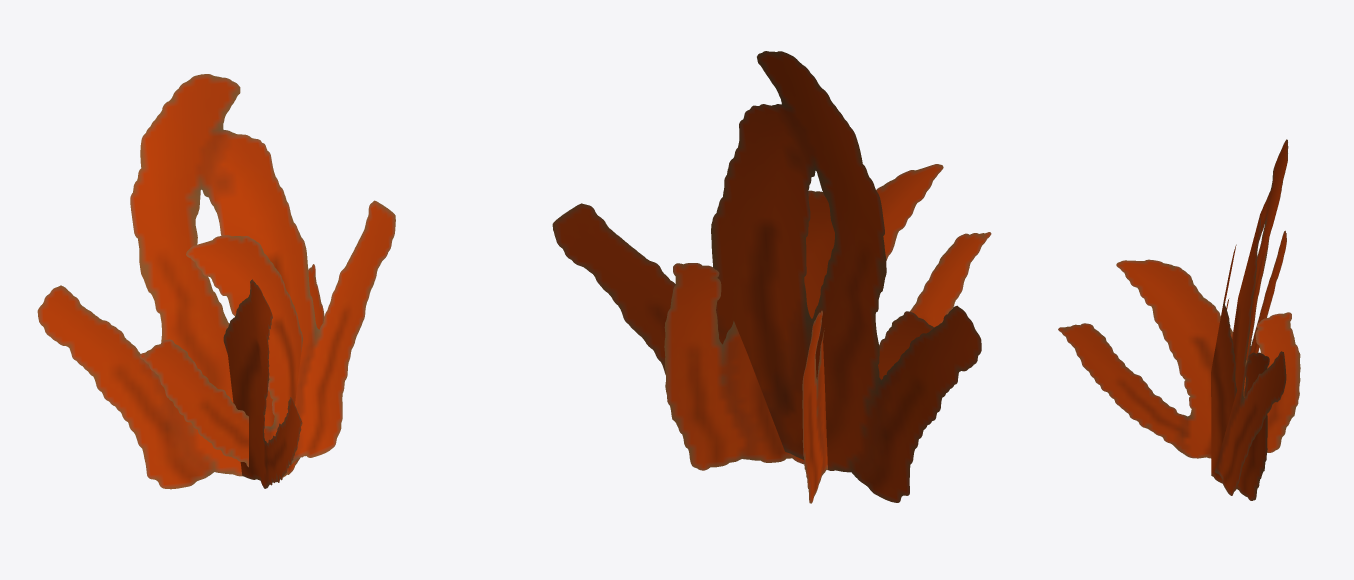
File: SM_FoliageRed_Grass.fbx
3 views of the same model, side by side, from view 1: azimuth 30°, elevation 25°; view 2: azimuth 150°, elevation 25°; view 3: azimuth 270°, elevation 25° (orthographic). The views are drawn at different scales.
Visible parts, largest first — view 1: SM_RedGrass_01, SM_RedGrass_03; view 2: SM_RedGrass_01, SM_RedGrass_03; view 3: SM_RedGrass_01, SM_RedGrass_03.
Part boxes in pixels (left/top/right/bottom): SM_RedGrass_01: left=37, top=74, right=395, bottom=489; SM_RedGrass_03: left=139, top=235, right=324, bottom=477; SM_RedGrass_01: left=552, top=51, right=991, bottom=503; SM_RedGrass_03: left=664, top=190, right=933, bottom=470; SM_RedGrass_01: left=1058, top=139, right=1300, bottom=495; SM_RedGrass_03: left=1211, top=244, right=1269, bottom=500.
Bounding box in the file's own units: 0.6055 × 0.634 × 0.4296.
